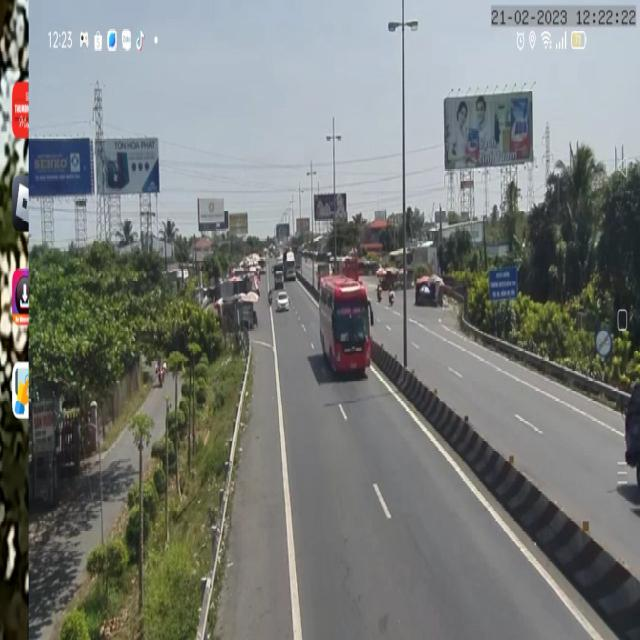bus: (319, 274, 371, 376)
car: (273, 292, 288, 313)
